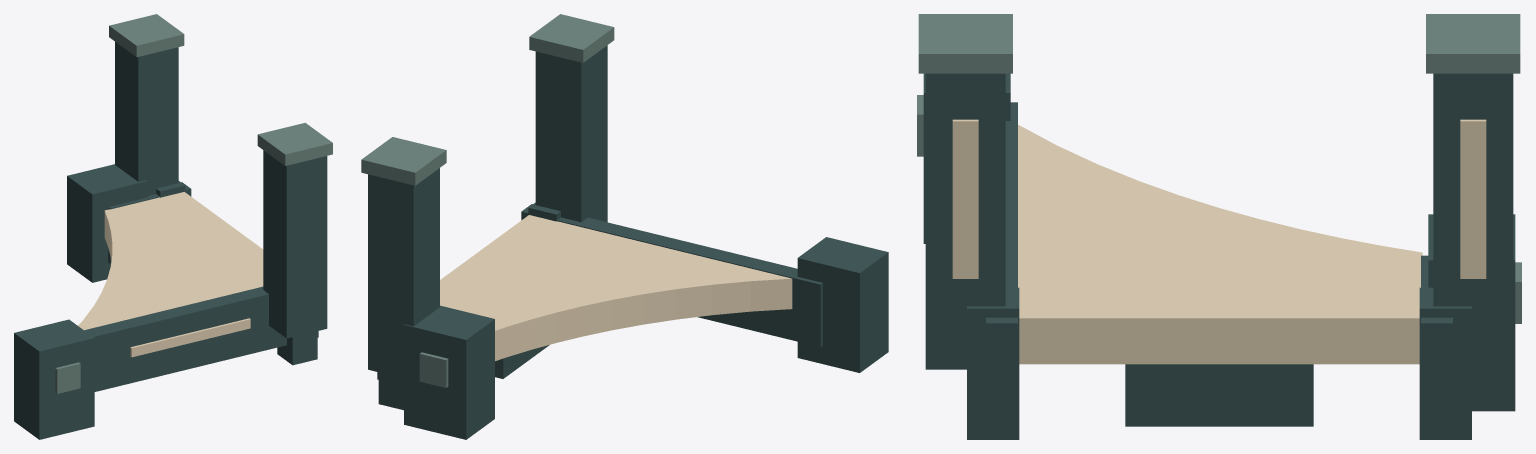
Rendered from Pier_Angled_35_Switch_lab2.glb.
3 views of the same model, side by side, from view 1: azimuth 30°, elevation 25°; view 2: azimuth 150°, elevation 25°; view 3: azimuth 270°, elevation 25° (orthographic). The views are drawn at different scales.
Parts seen in each view (by area): view 1: Pier_Angled_35_Switch; view 2: Pier_Angled_35_Switch; view 3: Pier_Angled_35_Switch.
Part boxes in pixels (left/top/right/bottom): Pier_Angled_35_Switch: left=14, top=14, right=332, bottom=439; Pier_Angled_35_Switch: left=361, top=14, right=888, bottom=439; Pier_Angled_35_Switch: left=917, top=14, right=1521, bottom=439.
Bounding box in the file's own units: 4.05 × 2.95 × 4.17.
